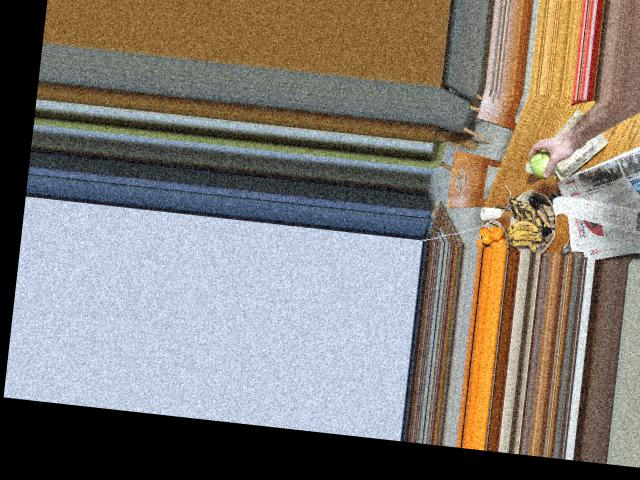apple: (527, 148, 560, 180)
